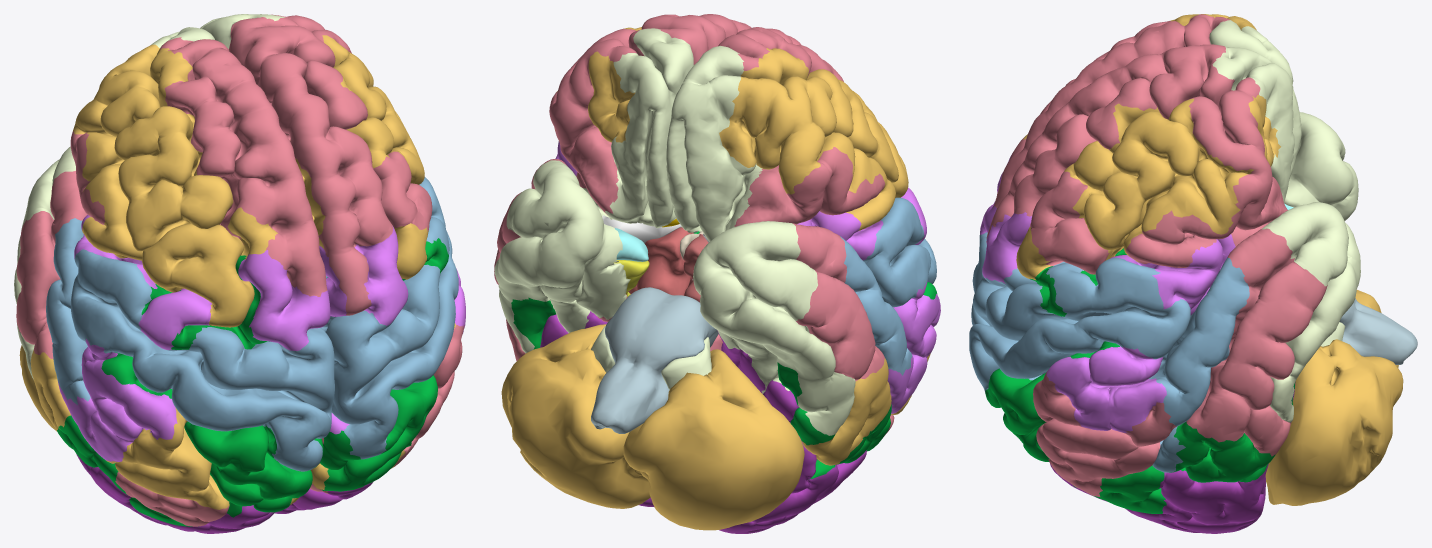
File: brain_network.glb
3 views of the same model, side by side, from view 1: azimuth 30°, elevation 25°; view 2: azimuth 150°, elevation 25°; view 3: azimuth 270°, elevation 25° (orthographic).
Visible parts, largest first — view 1: Network-Left-frontoparietal, Network-Left-somatomotor, Network-Left-default, Network-Right-default, Network-Left-ventral, Network-Right-somatomotor, Network-Left-dorsal, Network-Right-frontoparietal, Network-Right-dorsal, Network-Right-ventral, Network-Left-limbic, Network-Left-visual (+3 smaller); view 2: Network-Left-limbic, Network-Right-limbic, Network-Left-Cerebellum-Cortex, Network-Left-frontoparietal, Network-Left-default, Network-Right-Cerebellum-Cortex, Network-Brain-Stem, Network-Right-default, Network-Left-somatomotor, Network-Left-ventral, Network-Left-visual, Network-Right-frontoparietal (+10 smaller); view 3: Network-Right-default, Network-Right-somatomotor, Network-Right-frontoparietal, Network-Right-Cerebellum-Cortex, Network-Right-limbic, Network-Right-ventral, Network-Right-dorsal, Network-Left-limbic, Network-Right-visual, Network-Left-default, Network-Brain-Stem, Network-Left-somatomotor.
Boxes of the visible parts, bbox=[...] form: Network-Left-frontoparietal: bbox=[30, 44, 299, 509]; Network-Left-somatomotor: bbox=[46, 218, 334, 471]; Network-Left-default: bbox=[16, 37, 327, 526]; Network-Right-default: bbox=[229, 14, 464, 494]; Network-Left-ventral: bbox=[58, 214, 330, 461]; Network-Right-somatomotor: bbox=[321, 177, 458, 459]; Network-Left-dorsal: bbox=[57, 255, 323, 526]; Network-Right-frontoparietal: bbox=[295, 35, 455, 489]; Network-Right-dorsal: bbox=[320, 238, 448, 491]; Network-Right-ventral: bbox=[319, 226, 465, 434]; Network-Left-limbic: bbox=[14, 27, 214, 379]; Network-Left-visual: bbox=[76, 454, 274, 533]; Network-Left-limbic: bbox=[666, 45, 855, 435]; Network-Right-limbic: bbox=[494, 28, 693, 352]; Network-Left-Cerebellum-Cortex: bbox=[623, 349, 804, 530]; Network-Left-frontoparietal: bbox=[719, 48, 930, 465]; Network-Left-default: bbox=[718, 27, 894, 436]; Network-Right-Cerebellum-Cortex: bbox=[501, 324, 650, 508]; Network-Brain-Stem: bbox=[591, 287, 718, 433]; Network-Right-default: bbox=[494, 14, 751, 360]; Network-Left-somatomotor: bbox=[840, 197, 936, 375]; Network-Left-ventral: bbox=[797, 187, 940, 413]; Network-Left-visual: bbox=[717, 330, 866, 533]; Network-Right-frontoparietal: bbox=[554, 27, 641, 142]; Network-Right-default: bbox=[986, 44, 1327, 496]; Network-Right-somatomotor: bbox=[969, 257, 1249, 472]; Network-Right-frontoparietal: bbox=[1016, 94, 1280, 372]; Network-Right-Cerebellum-Cortex: bbox=[1265, 339, 1403, 505]; Network-Right-limbic: bbox=[1212, 46, 1360, 422]; Network-Right-ventral: bbox=[982, 212, 1235, 432]; Network-Right-dorsal: bbox=[985, 248, 1295, 513]; Network-Left-limbic: bbox=[1209, 20, 1358, 220]; Network-Right-visual: bbox=[1050, 382, 1295, 533]; Network-Left-default: bbox=[993, 14, 1229, 207]; Network-Brain-Stem: bbox=[1339, 298, 1417, 364]; Network-Left-somatomotor: bbox=[971, 232, 989, 325].
Size of the model in its own units: 144 by 181 by 154.
